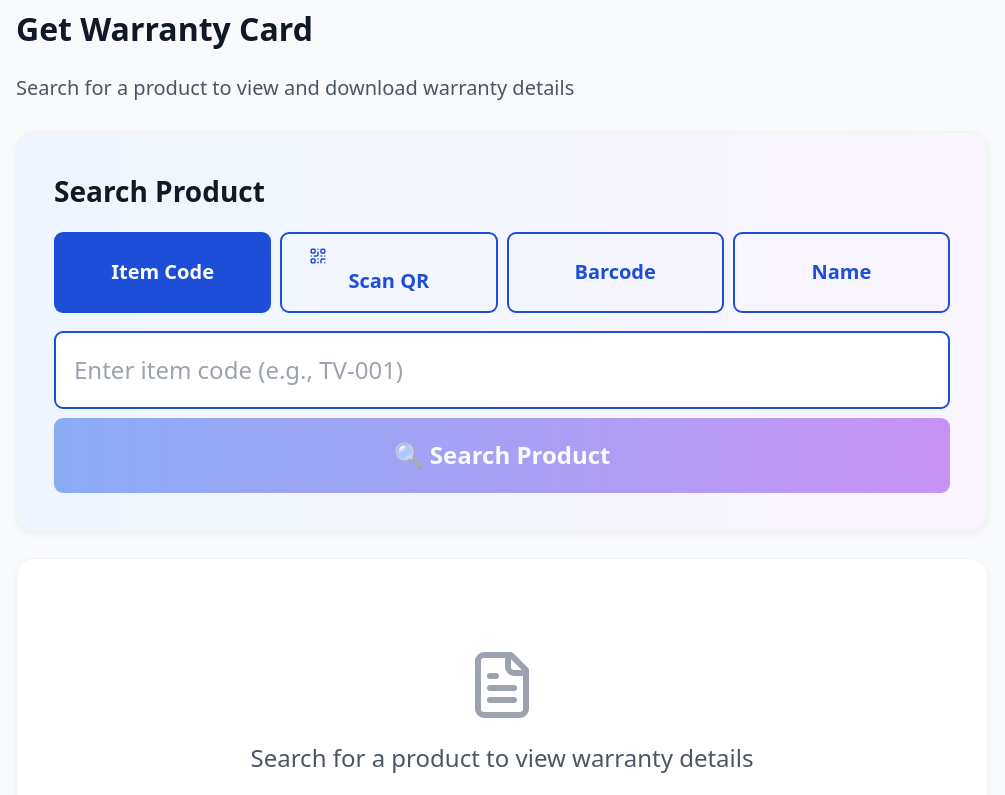
Integration Tests - Frontend ↔ Database › Product Search Flow › should search product and display results
Type "TV-001" into the field with placeholder "Enter item code (e.g., TV-001)".
click(502, 370); type("TV-001")  # box x1=54 y1=331 x2=950 y2=409
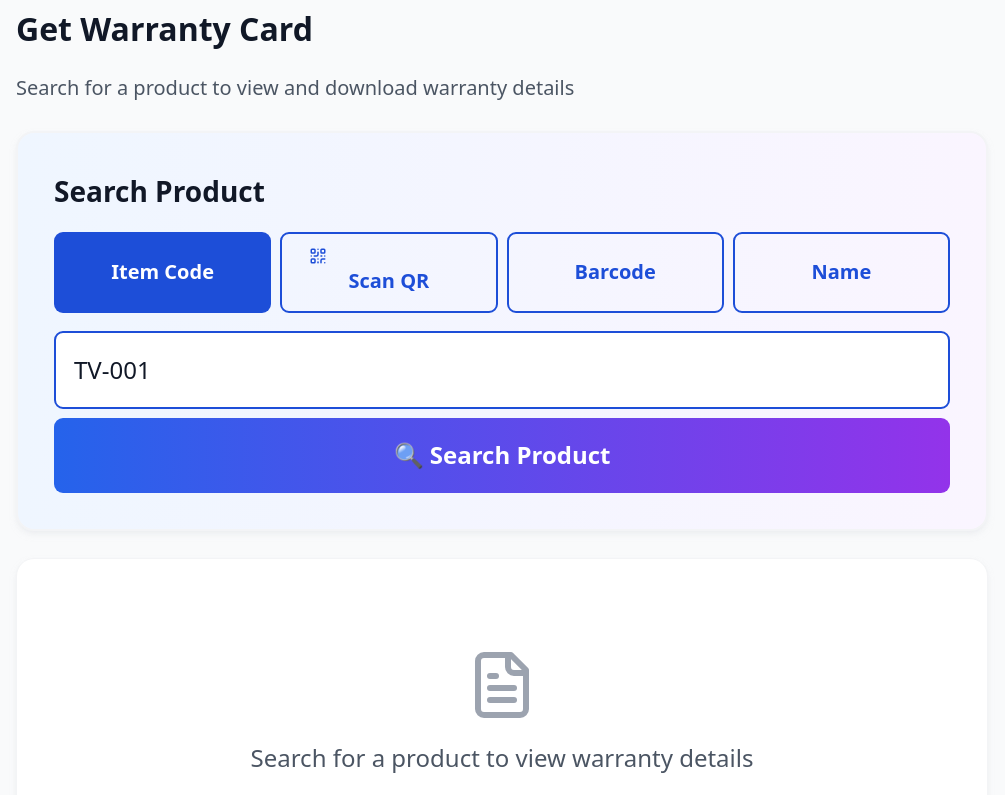
Click the button "🔍 Search Product".
click(502, 456)  # box x1=54 y1=418 x2=950 y2=493
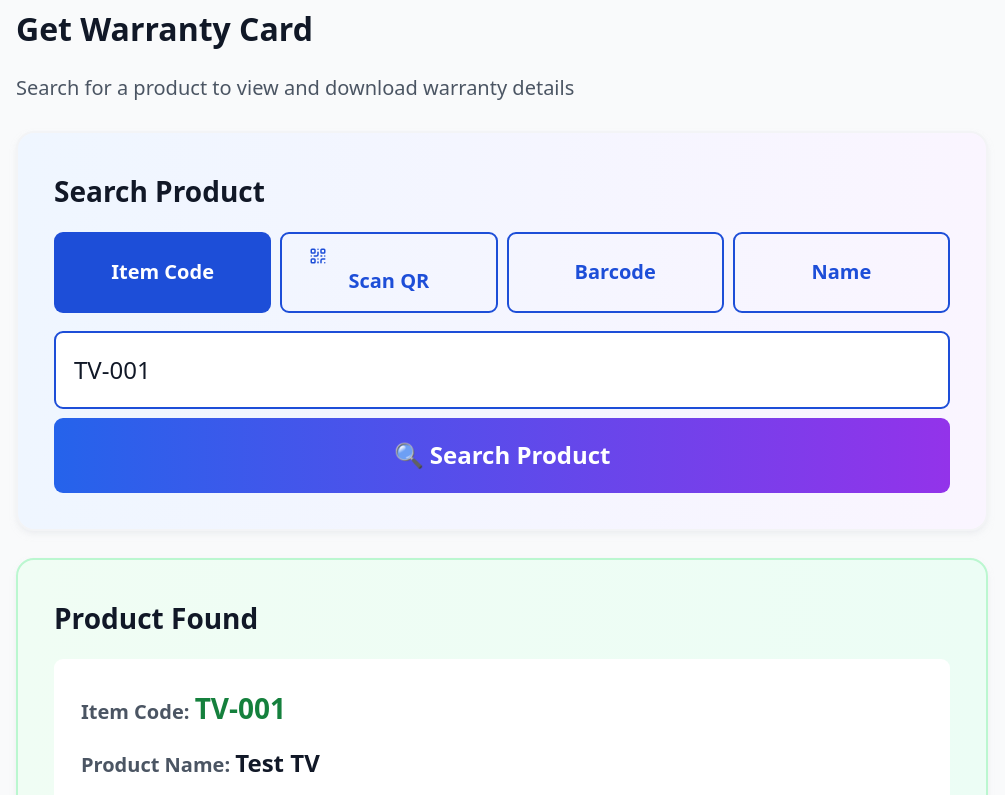
expect the text "Test TV" is shown: met, box x1=235 y1=746 x2=320 y2=779
